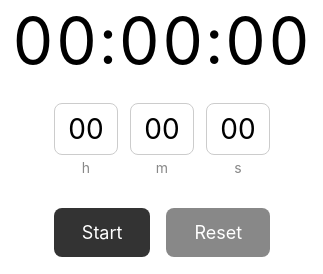
Test: TimerScreen › timer controls › cannot start a timer with zero duration
Click the element with test id "start-button": (102, 232) [54, 208, 150, 256]
Wait 1000 ms
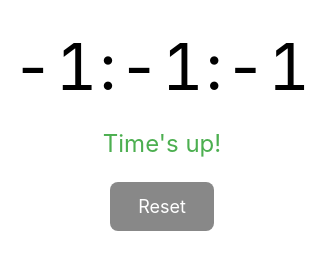
Expected: the element with test id "start-button" is gone
Expected: the text "Time's up!" is shown, [103, 128, 221, 158]
